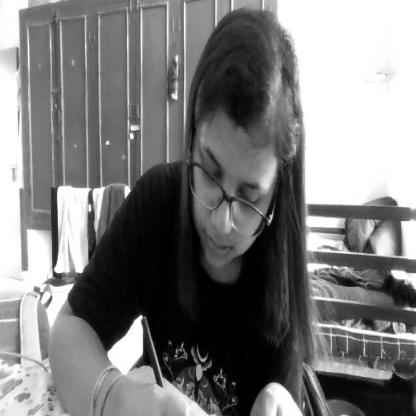Distracted: (189, 4, 296, 278)
